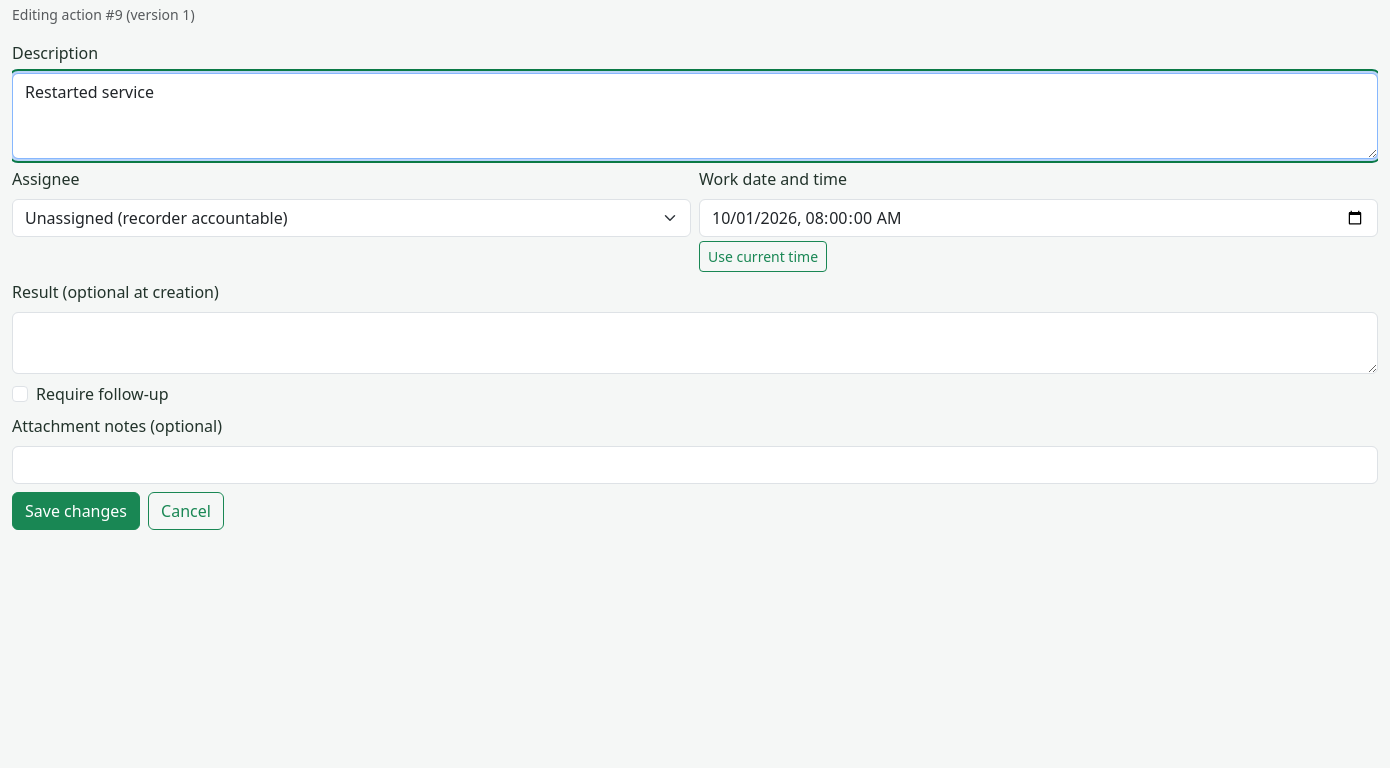
Test: ActionForm edit (Issue #78, UI-03) › keeps the form mounted with entries preserved when the server rejects the save
Click the button "Save changes" at (76, 511), box [12,492,140,530]
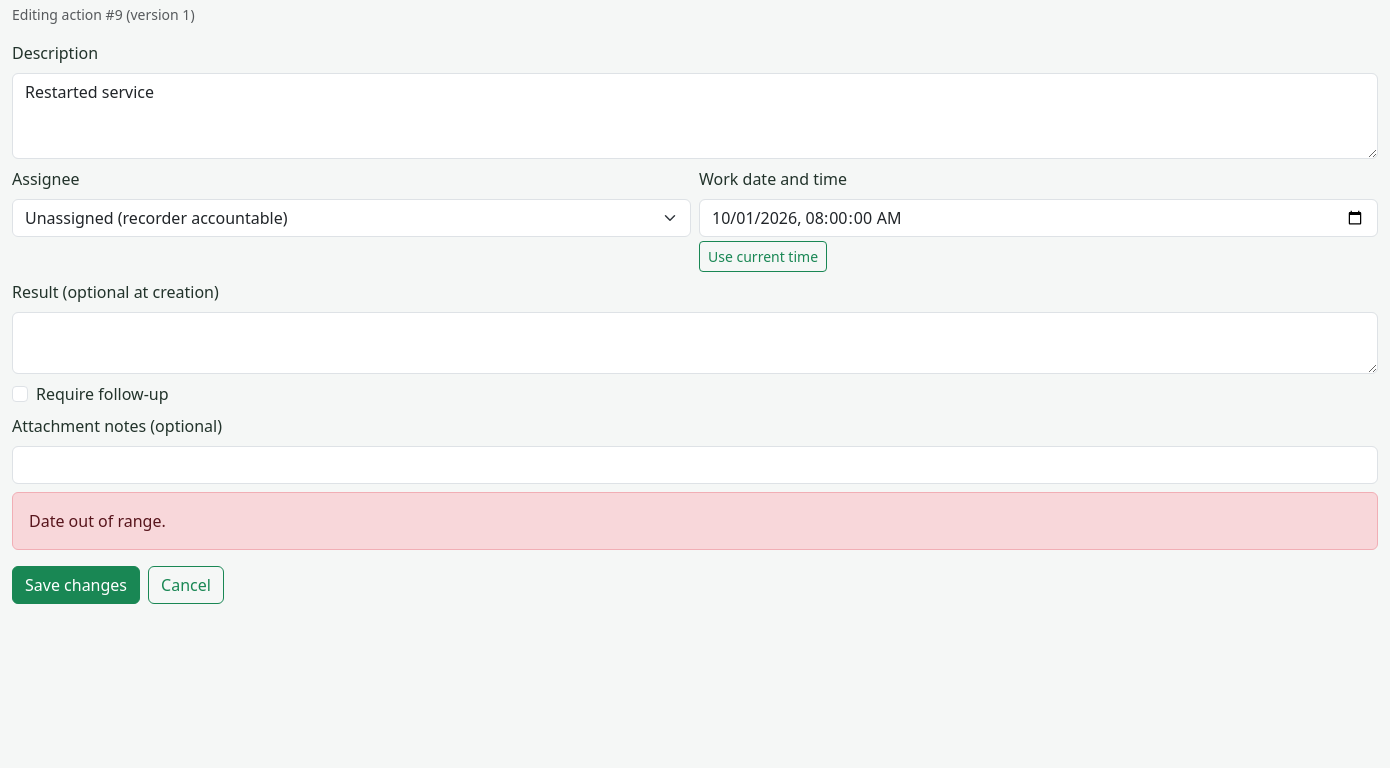
Expected: the text box labelled "Description" holds "Restarted service", [12,73,1378,159]
Result: the message "Date out of range." is shown at [12,492,1378,550]
